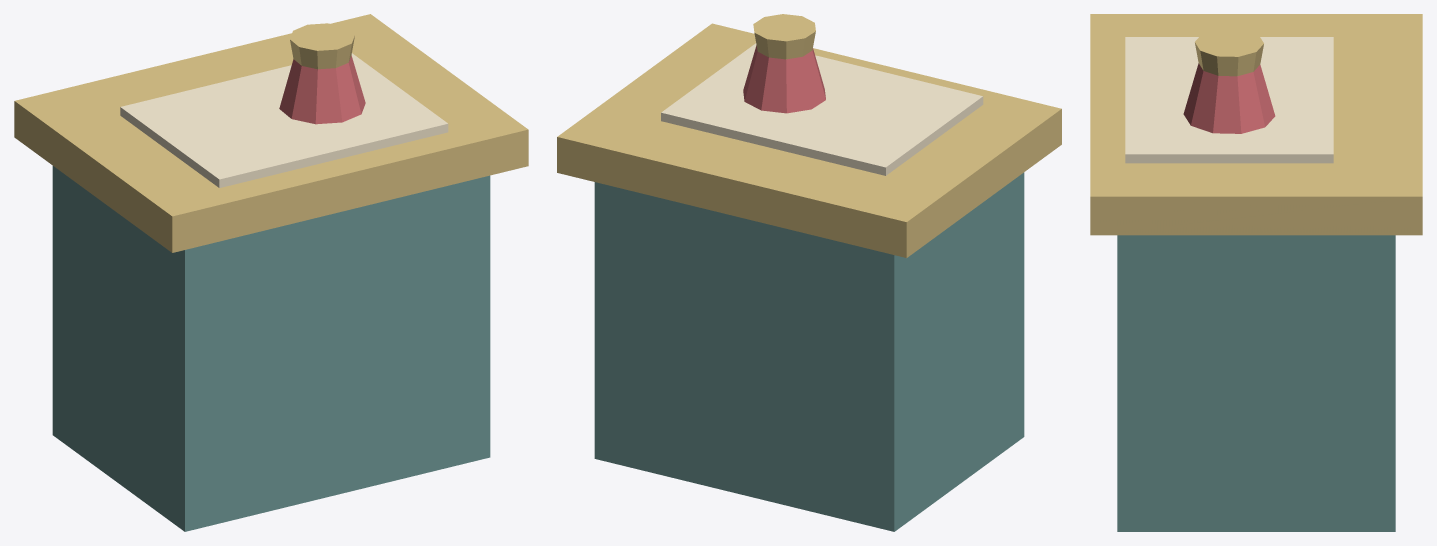
Rendered from StampDesk.glb.
3 views of the same model, side by side, from view 1: azimuth 30°, elevation 25°; view 2: azimuth 150°, elevation 25°; view 3: azimuth 270°, elevation 25° (orthographic). The views are drawn at different scales.
Visible parts, largest first — view 1: StampDesk; view 2: StampDesk; view 3: StampDesk.
Boxes of the visible parts, box(x1,y1,x2,y2) form: StampDesk: box(14, 14, 528, 531); StampDesk: box(557, 14, 1061, 531); StampDesk: box(1090, 14, 1422, 531).
Size of the model in its own units: 1.12 by 1.23 by 0.86.
